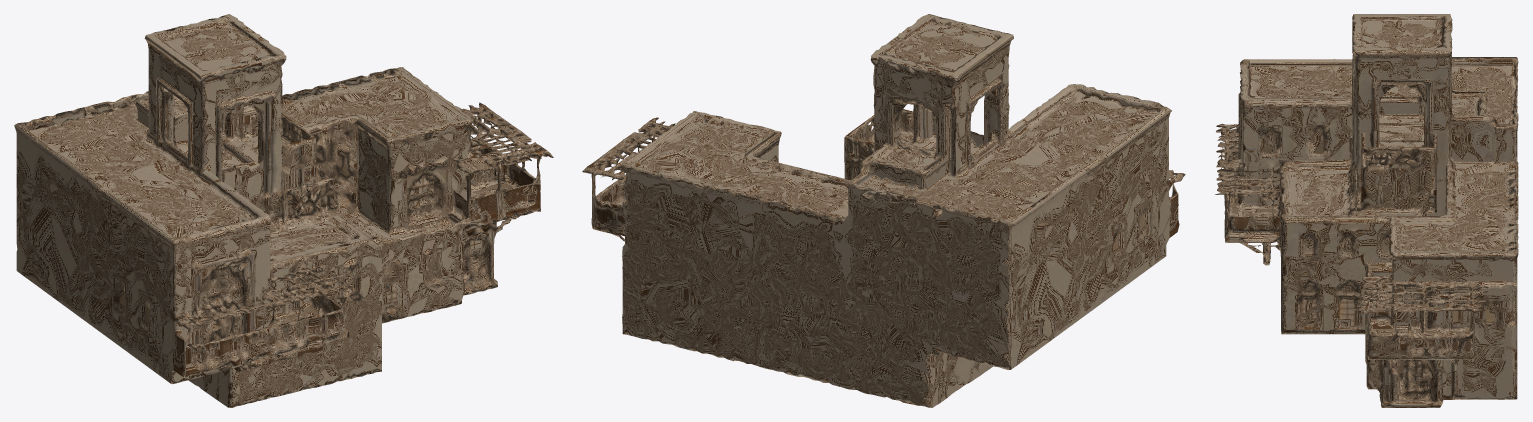
Rendered from lagoon_b_lod1.glb.
3 views of the same model, side by side, from view 1: azimuth 30°, elevation 25°; view 2: azimuth 150°, elevation 25°; view 3: azimuth 270°, elevation 25° (orthographic). The views are drawn at different scales.
Size of the model in its own units: 1.98 by 1.27 by 1.34.
1 material, 1 textured.
